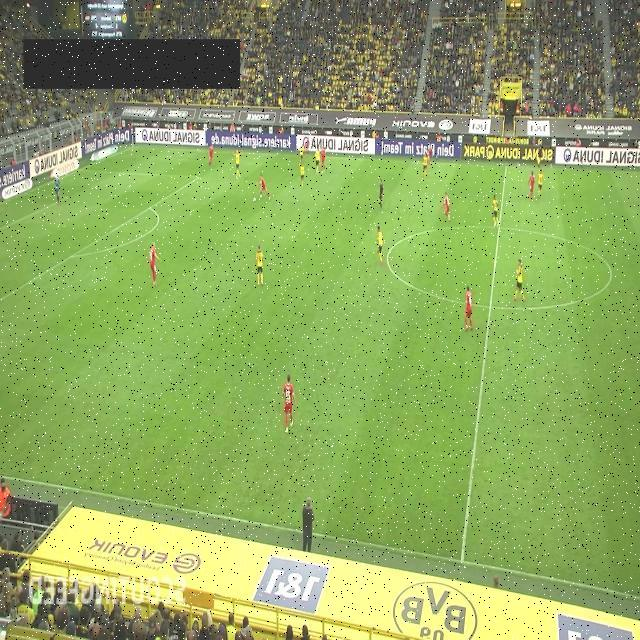Ball: (253, 196, 257, 204)
Corner: (130, 125, 136, 146)
GoalKeeper: (55, 174, 61, 206)
Referee: (536, 139, 544, 169), (378, 178, 384, 208)
TEAM 1: (282, 373, 296, 434), (148, 242, 162, 286), (464, 284, 473, 332), (256, 173, 271, 201), (439, 191, 451, 221), (527, 170, 535, 200), (320, 146, 326, 174), (303, 135, 310, 158), (208, 142, 214, 168), (426, 144, 432, 168)
TEAM 2: (512, 258, 526, 302), (255, 244, 264, 286), (232, 147, 242, 179), (376, 226, 384, 264), (492, 193, 500, 227), (538, 168, 544, 199), (422, 150, 428, 178), (299, 160, 305, 188), (314, 146, 320, 174), (299, 145, 303, 165)
